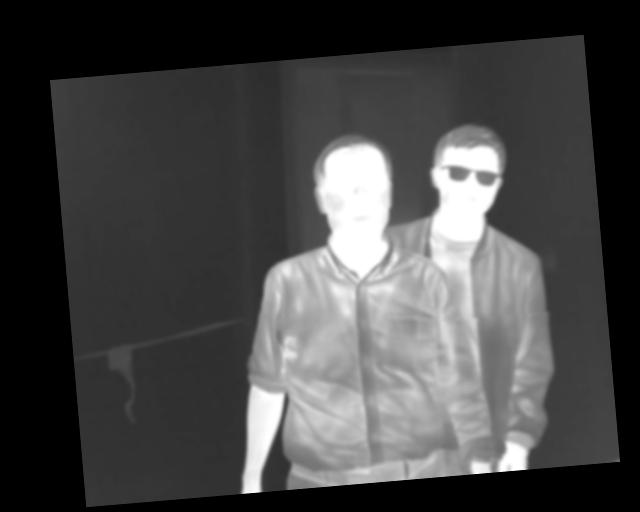face: (309, 130, 397, 246), (425, 119, 511, 223)
